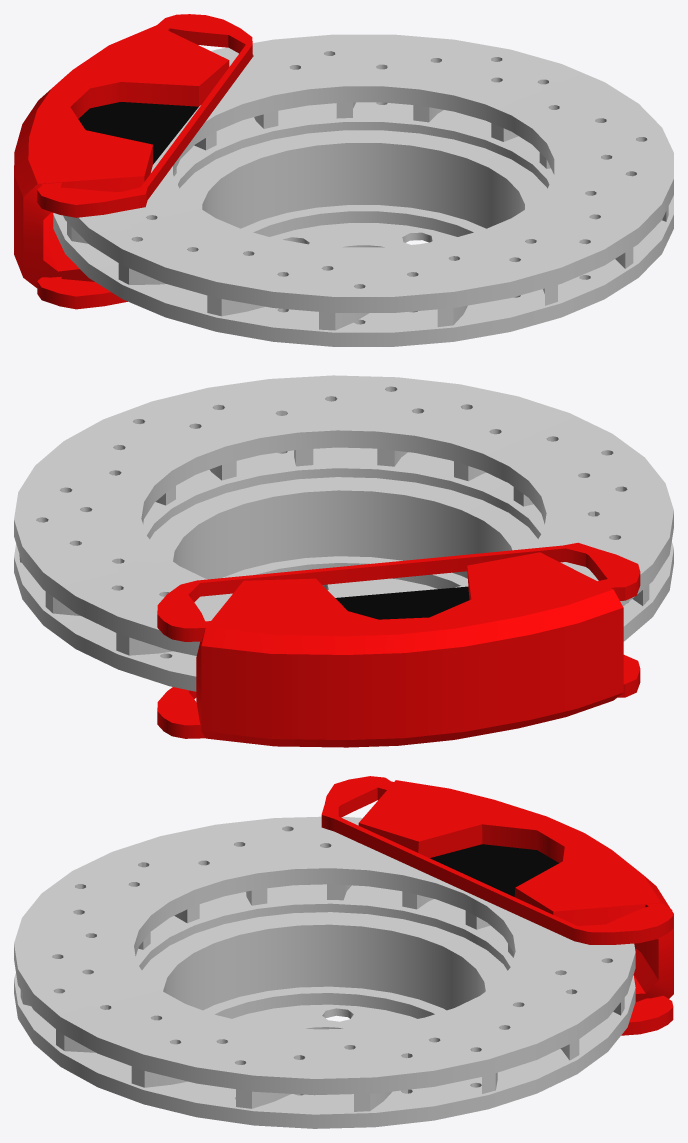
The model's file is discv3.glb.
3 renders of one model, top to bottom at view 1: azimuth 30°, elevation 25°; view 2: azimuth 150°, elevation 25°; view 3: azimuth 270°, elevation 25°, orthographic. The views are drawn at different scales.
Parts seen in each view (by area): view 1: Disk, Caliper; view 2: Disk, Caliper; view 3: Disk, Caliper.
Boxes of the visible parts, x1,y1,x2,y2 form: Disk: [53, 34, 673, 346]; Caliper: [14, 14, 252, 309]; Disk: [14, 375, 673, 691]; Caliper: [157, 542, 640, 747]; Disk: [14, 816, 635, 1128]; Caliper: [321, 776, 673, 1035].
Bounding box in the file's own units: 1.16 × 0.2821 × 1.16.
